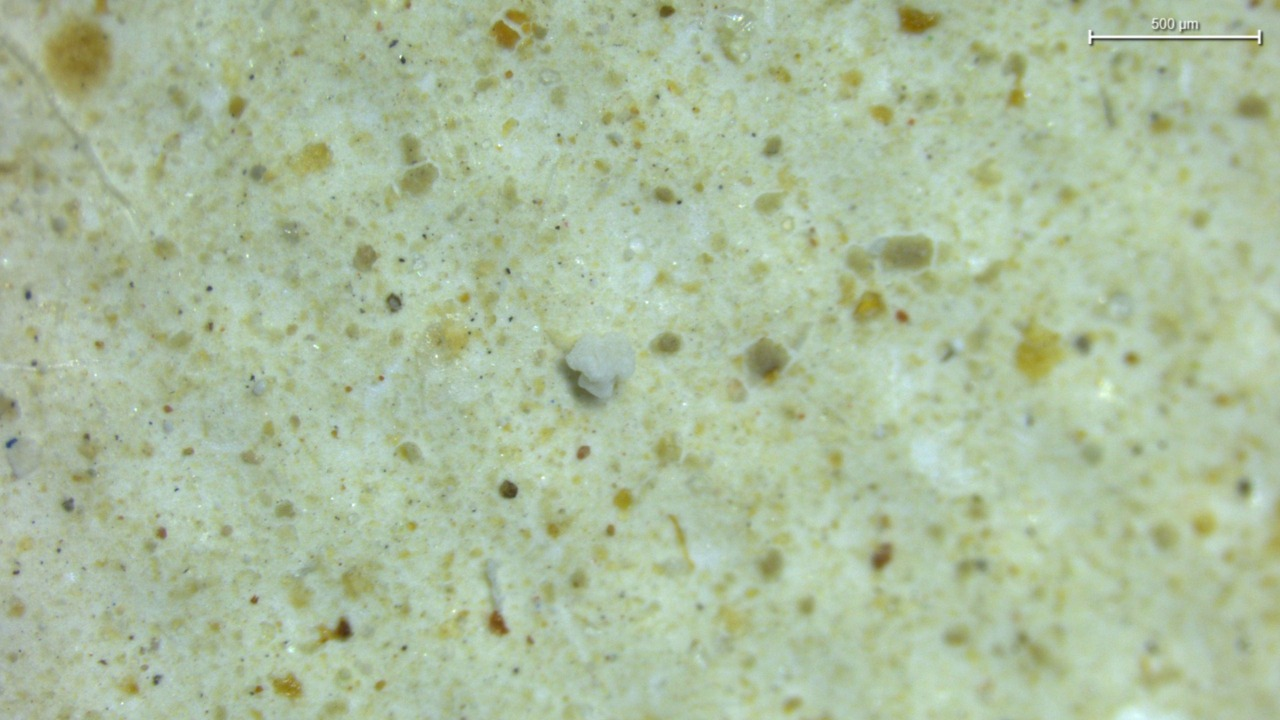microplastic_fragment: (565, 333, 635, 401)
